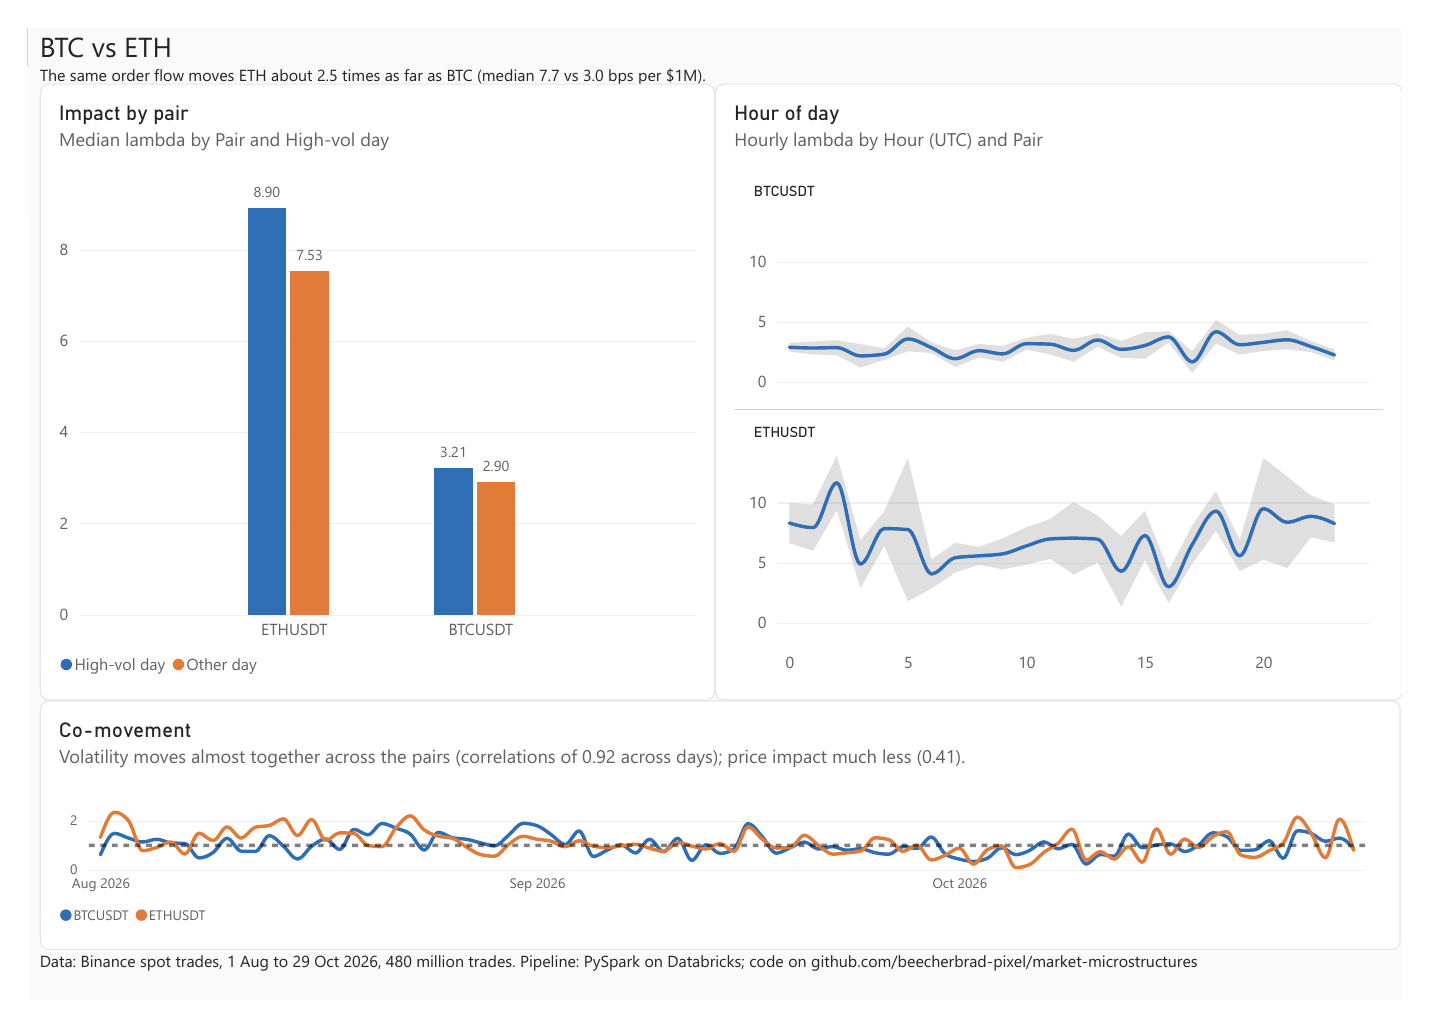

This screenshot's page, from the dashboard's own definition file:
{"tool":"powerbi","page":{"name":"BTC vs ETH","canvas":[1200,850],"ordinal":2},"visuals":[{"type":"textbox","box":[10.5,0,1189.2,97.4],"z":0},{"type":"clusteredColumnChart","title":"Impact by pair","fields":{"Category":["Pair.Pair"],"Series":["Daily.High-vol day"],"Y":["Daily.Median lambda"]},"box":[10.5,49.2,589.3,539.1],"z":1},{"type":"lineChart","title":"Hour of day","fields":{"Category":["Hourly.Hour (UTC)"],"Rows":["Pair.Pair"],"Y":["Hourly.Hourly lambda"]},"box":[599.8,49.2,600.9,539.1],"z":2},{"type":"lineChart","title":"Co-movement","fields":{"Category":["Dates.Date"],"Series":["Pair.Pair"],"Y":["Daily.Lambda rel. median"]},"box":[10,588,1189.2,217.7],"z":3},{"type":"textbox","box":[10.5,806,1189.2,45],"z":4}]}

Visuals, with their boxes in screenshot pixels (x1, y1, x2, y2), scaled from the page's 1200x850 canvas onto the 1430x1029 screenshot:
textbox: (13,0,1429,118)
"Impact by pair" clusteredColumnChart: (13,60,715,712)
"Hour of day" lineChart: (715,60,1429,712)
"Co-movement" lineChart: (12,712,1429,975)
textbox: (13,976,1429,1028)
